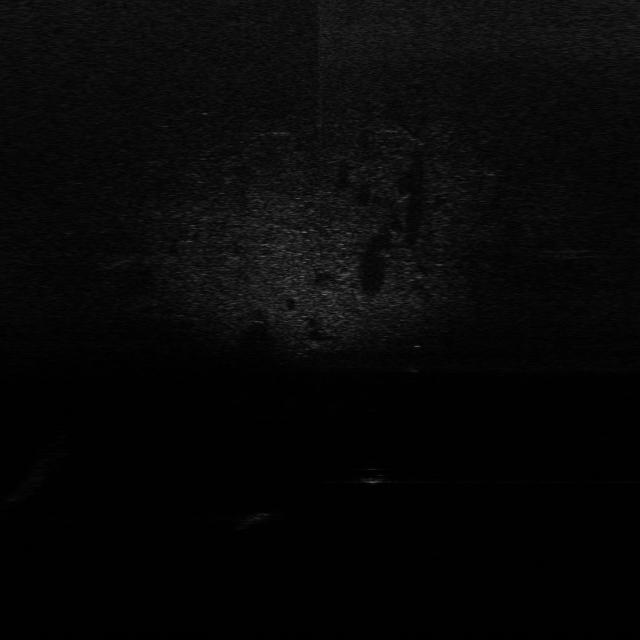ball: (358, 464, 391, 485)
square cage: (234, 506, 280, 528)
tyre: (406, 339, 430, 374)
